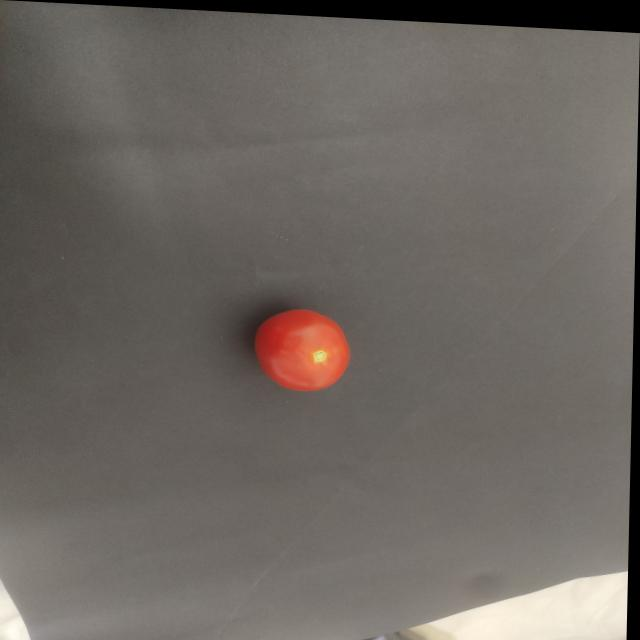kirmizi: (240, 287, 382, 401)
